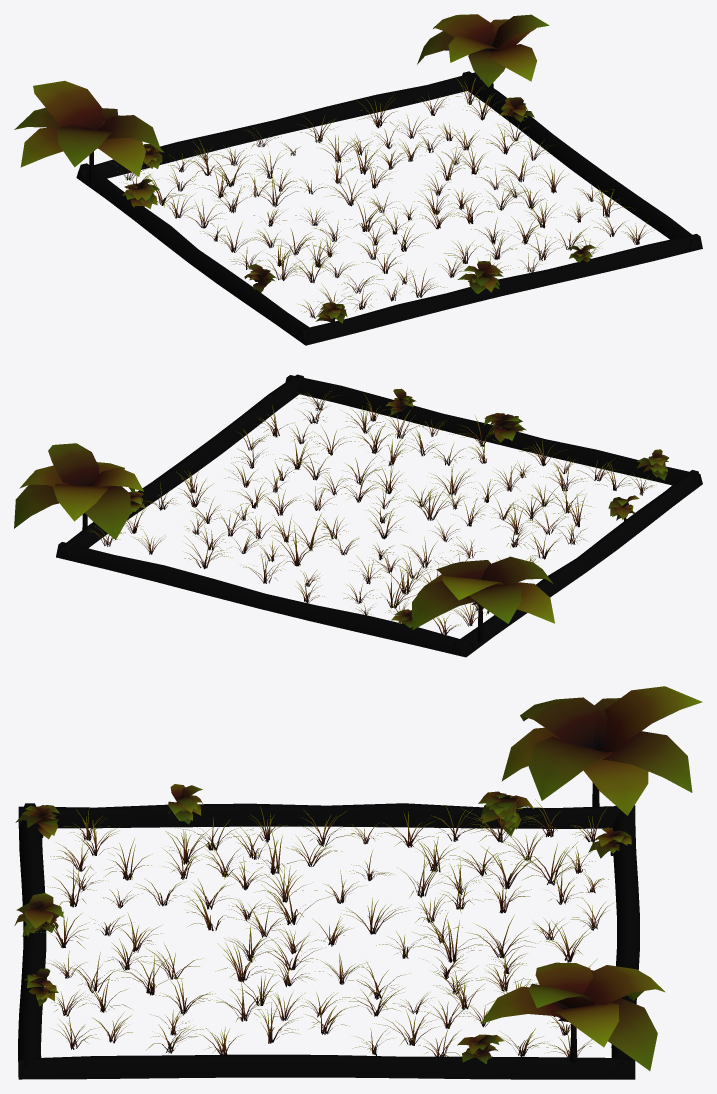
Rendered from patch_paddy_grove.glb.
The picture shows the model from 3 angles, top to bottom: view 1: azimuth 30°, elevation 25°; view 2: azimuth 150°, elevation 25°; view 3: azimuth 270°, elevation 25°; orthographic projection. The views are drawn at different scales.
Parts seen in each view (by area): view 1: patch_paddy_grove; view 2: patch_paddy_grove; view 3: patch_paddy_grove.
Part boxes in pixels (x1=…): patch_paddy_grove: x1=14, y1=14, x2=702, y2=345; patch_paddy_grove: x1=14, y1=374, x2=702, y2=657; patch_paddy_grove: x1=14, y1=686, x2=702, y2=1079.
Size of the model in its own units: 15.56 by 2.47 by 13.41.
Materials: 1 (1 with a texture image).
